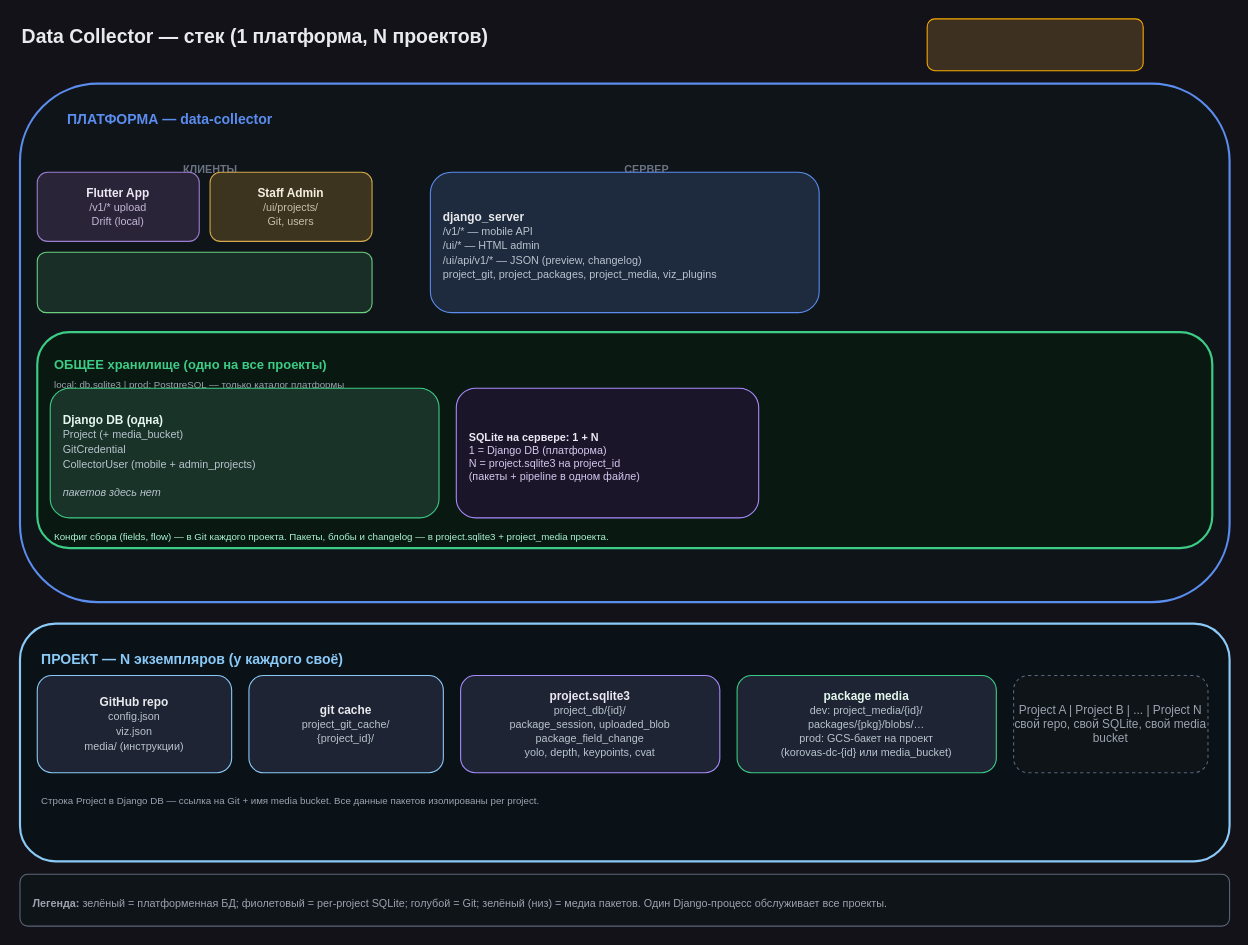
Image size: 1248x945. Some labels were removed from this diagram. The centre of each missing label's shape, as x and y in pixels:
Client-admin /ui/packages/ Firebase login: point (204, 282)
Firebase Auth вход: Flutter + client /ui/login/: point (1034, 44)
